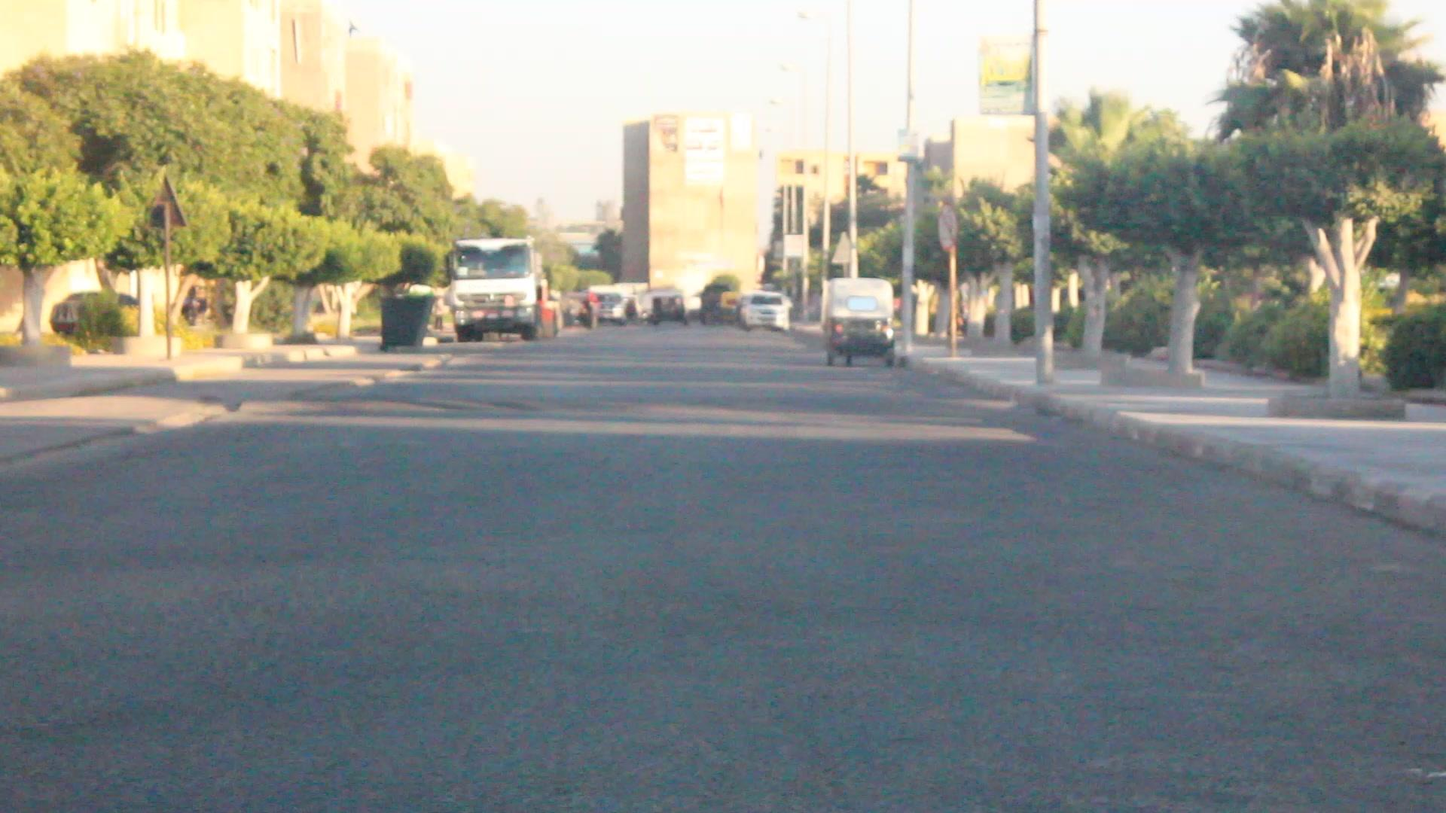Bump: (237, 390, 1022, 423)
